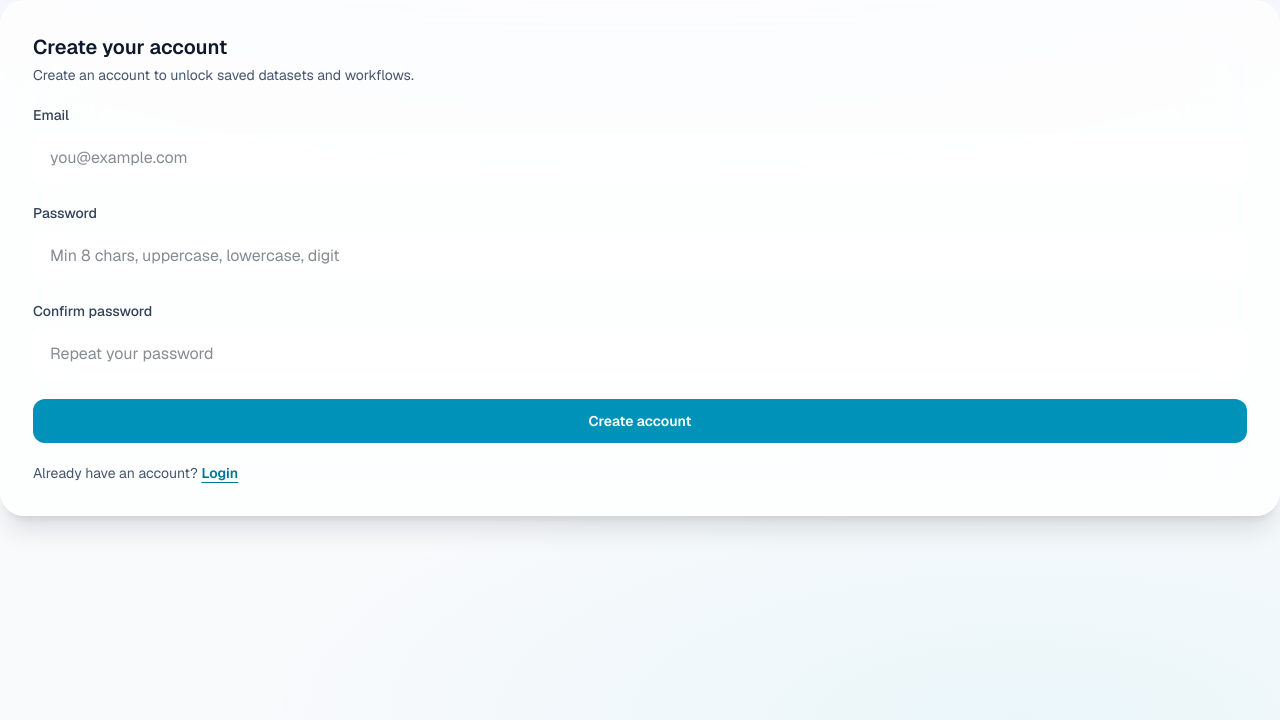
Test: RegisterForm › shows a validation error when the password has no uppercase letter
The image size is (1280, 720).
In the field labelled "Email": (640, 158) [33,133,1247,183], type "new-user@example.com"
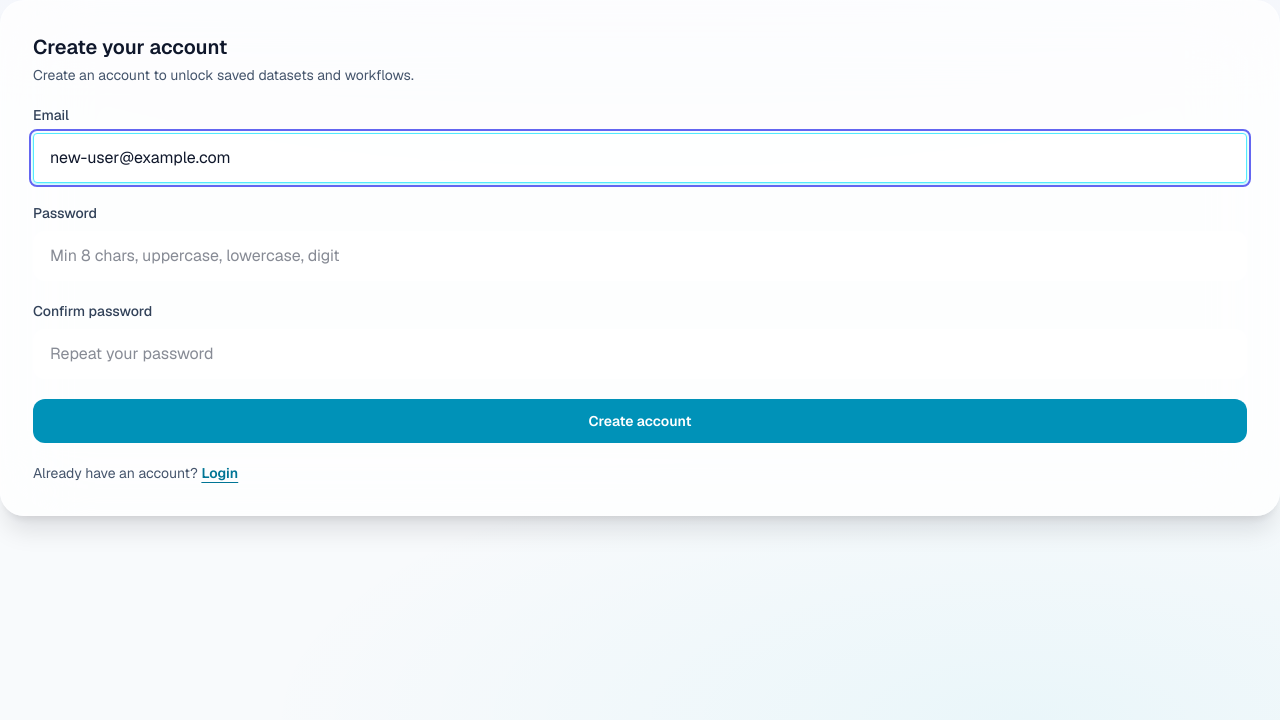
In the password field labelled "Password": (640, 256) [33,231,1247,281], type "lowercase1"
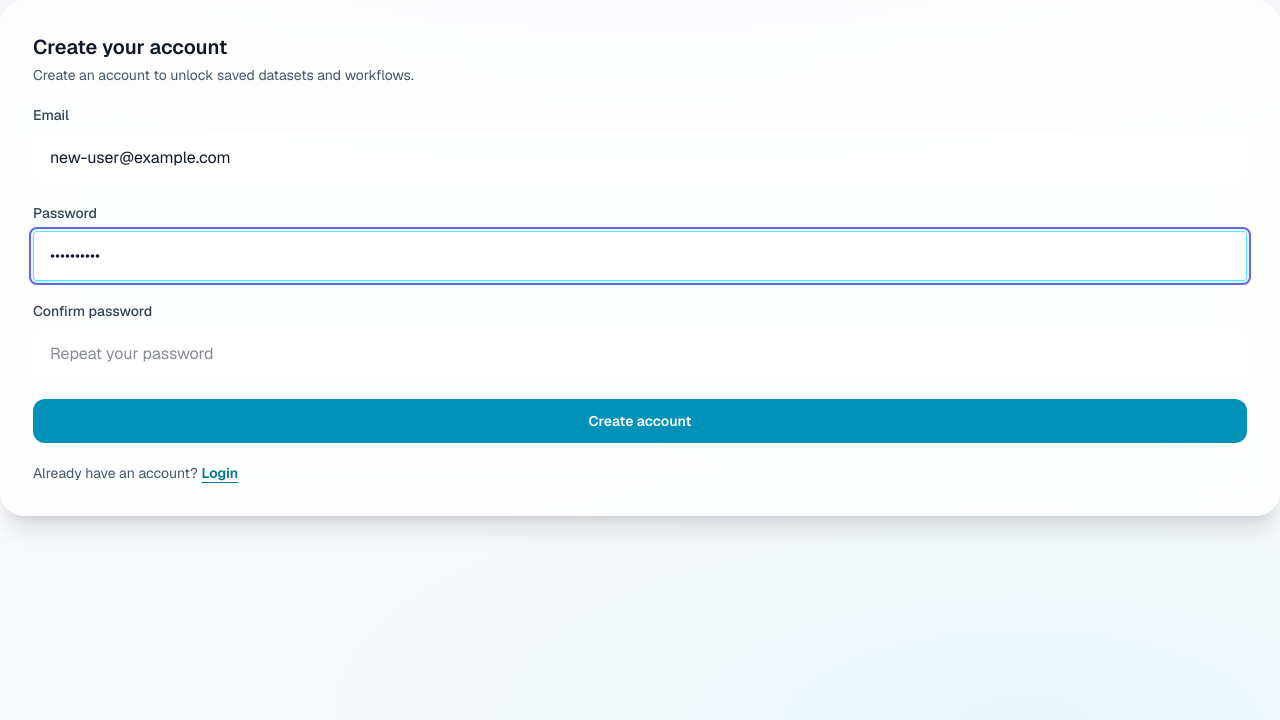
In the password field labelled "Confirm password": (640, 354) [33,329,1247,379], type "lowercase1"
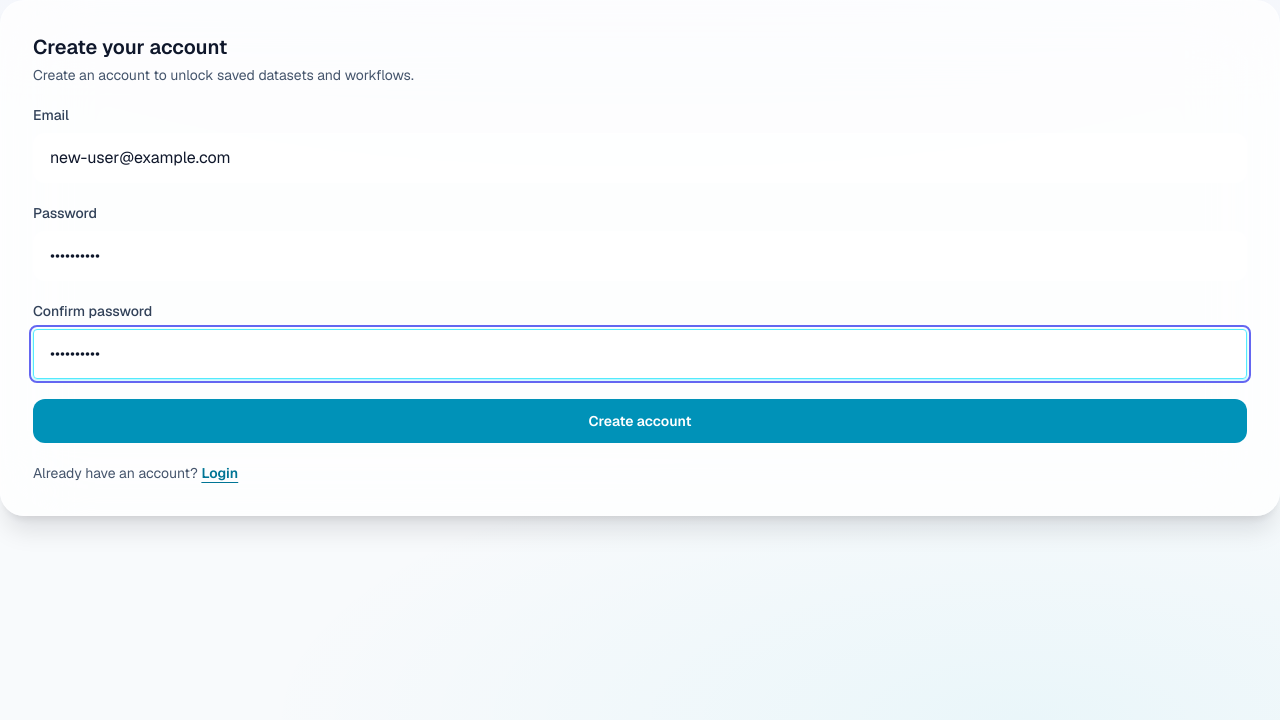
Click the button "Create account": (640, 421) [33,399,1247,443]
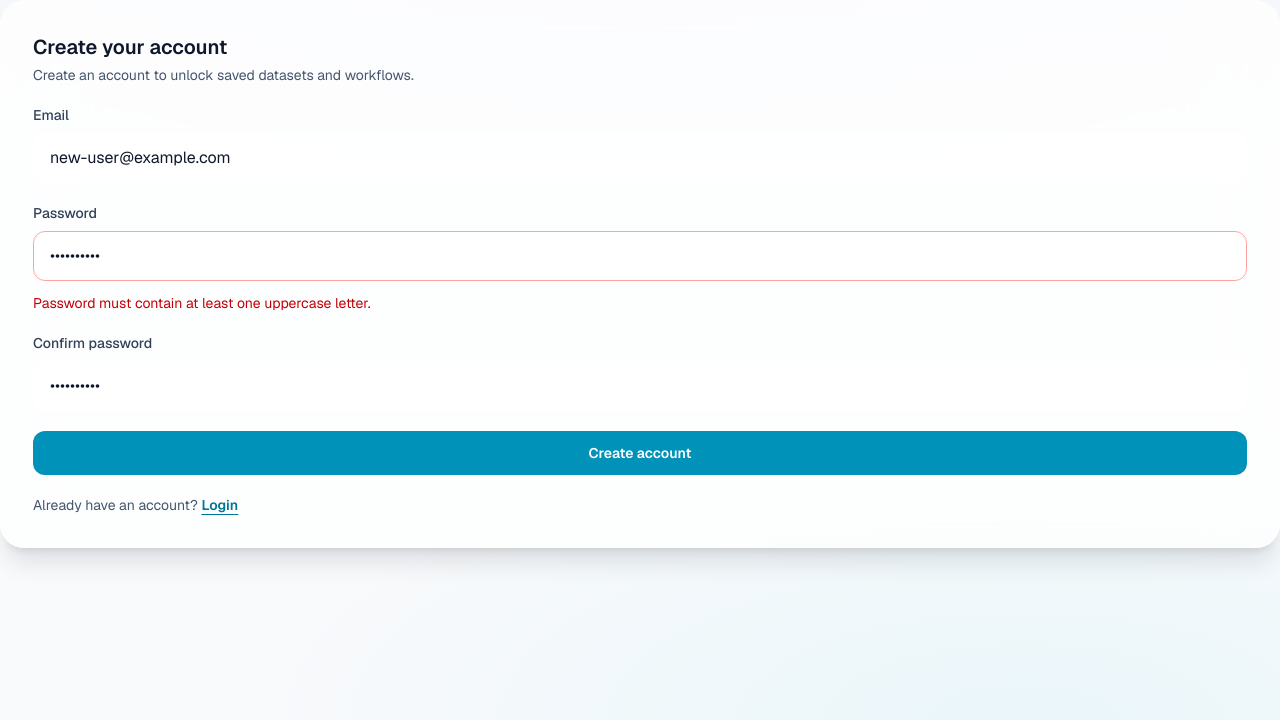
expect the message reads "Password must contain at least one uppercase letter.": met, box [33,294,370,312]
